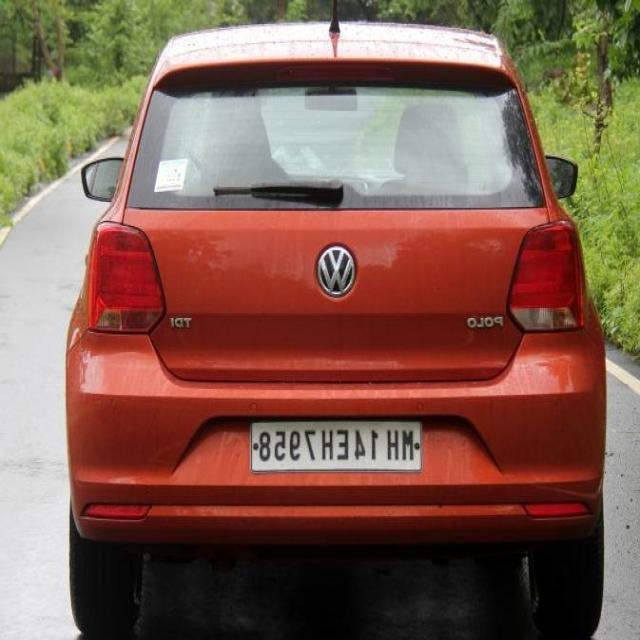number-plate: (251, 417, 417, 472)
